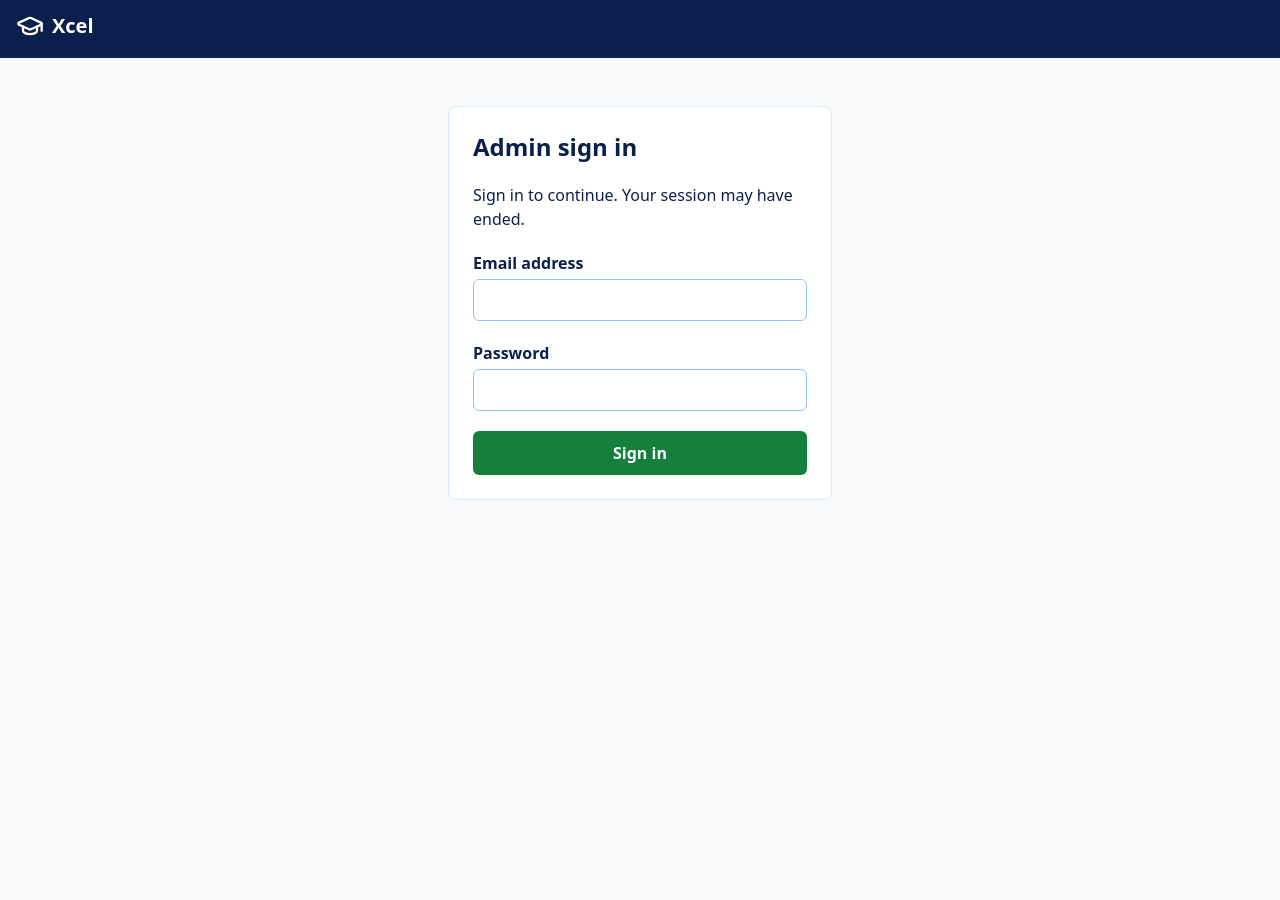
it: admin sign-in › sends signed-out visitors to sign in, then back where they were going
Expected: the heading "Admin sign in" is shown, [473,130,637,163]
Type "admin@example.com" into the field labelled "Email address" at (640, 300), box [473,279,807,321]
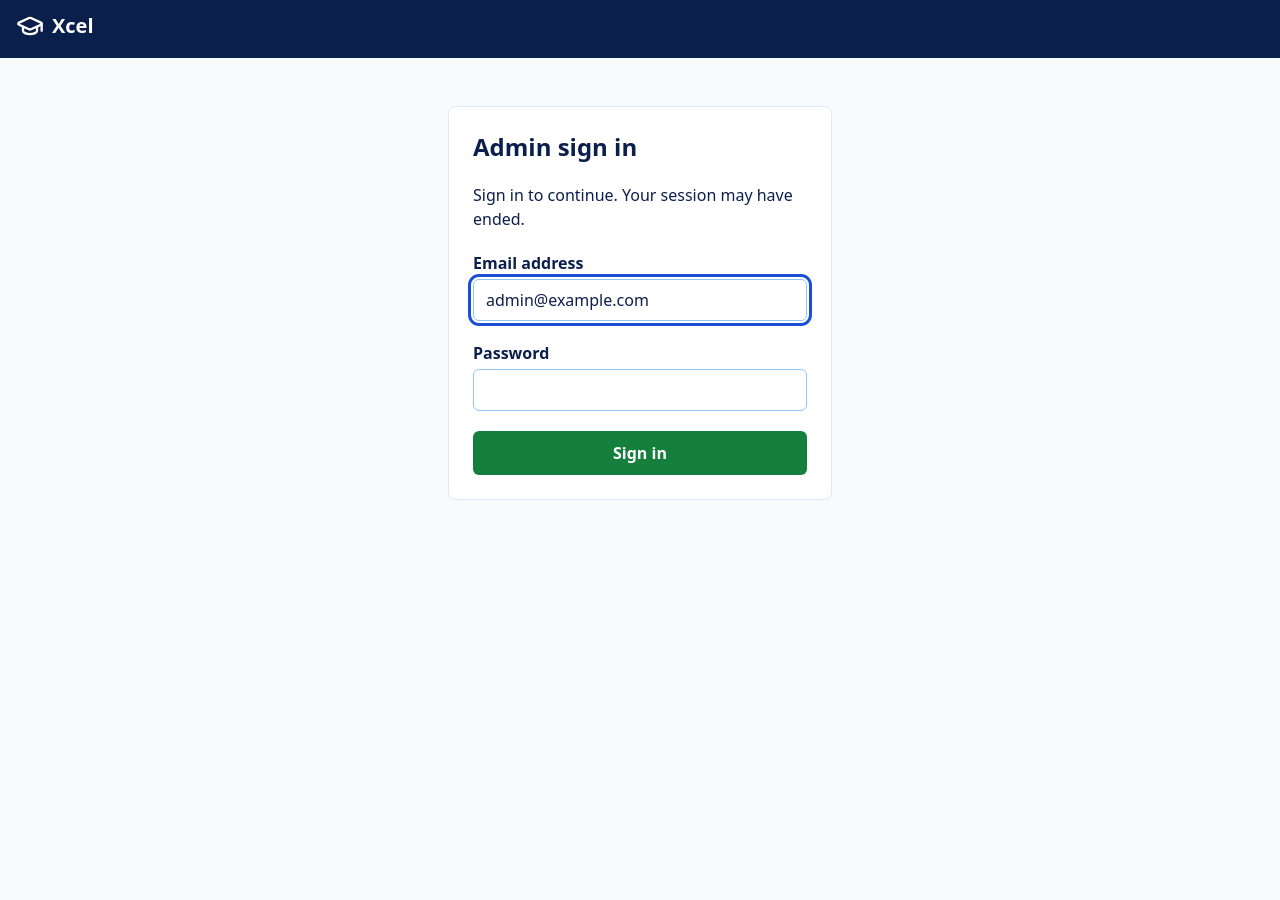
Type "correct horse battery" into the password field labelled "Password" at (640, 390), box [473,369,807,411]
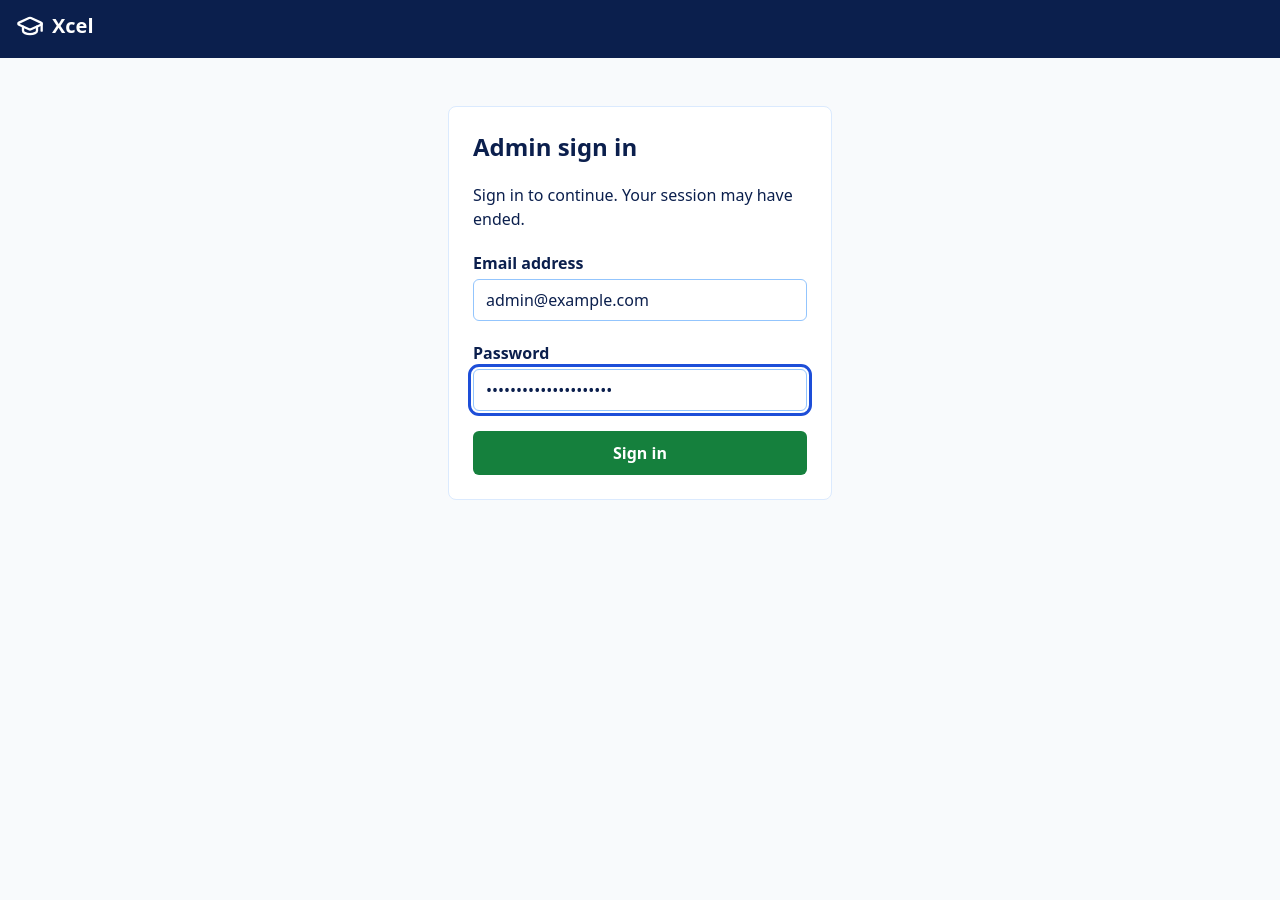
Click the button "Sign in" at (640, 453), box [473,431,807,475]
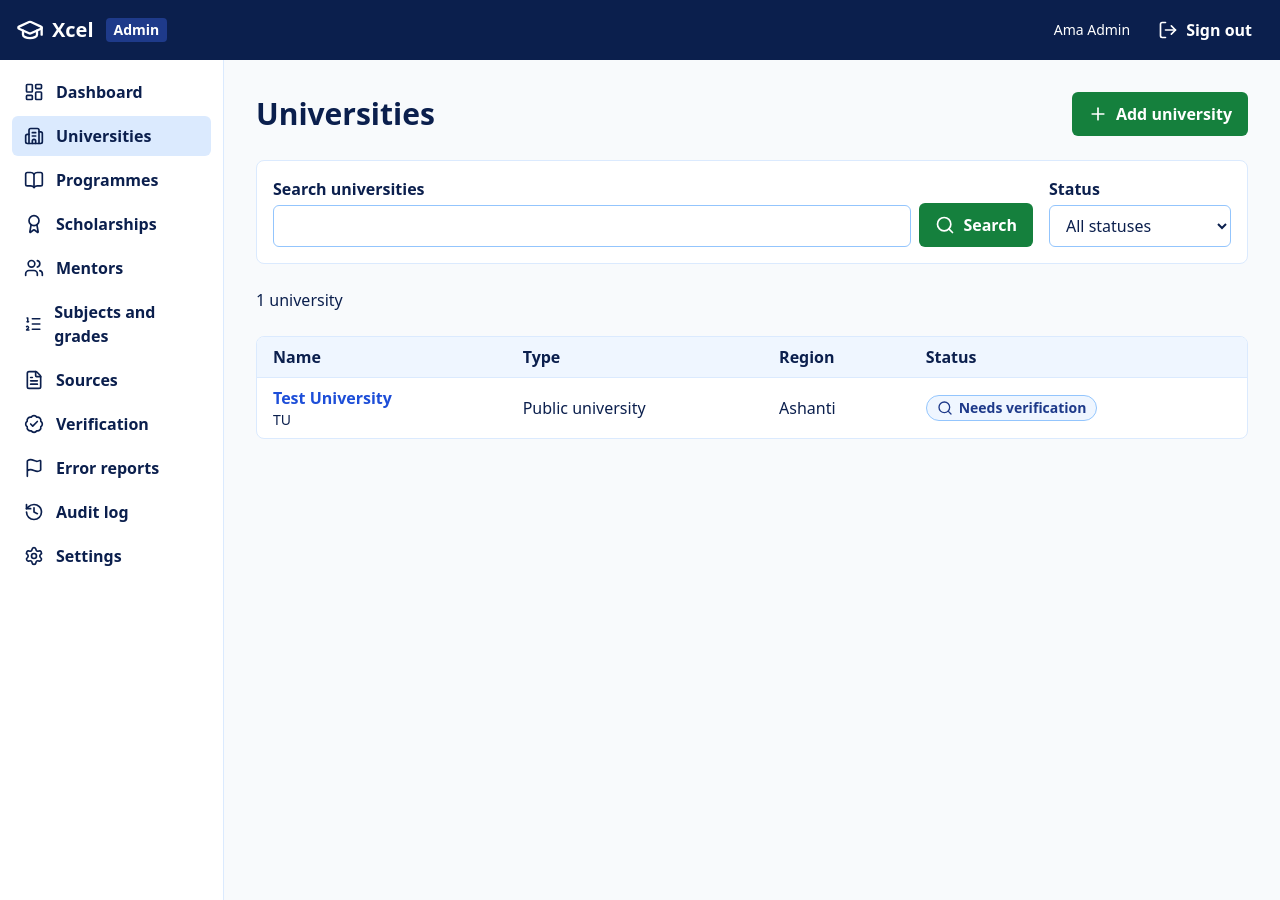
Expected: the heading "Universities" is shown, [256,96,435,132]
